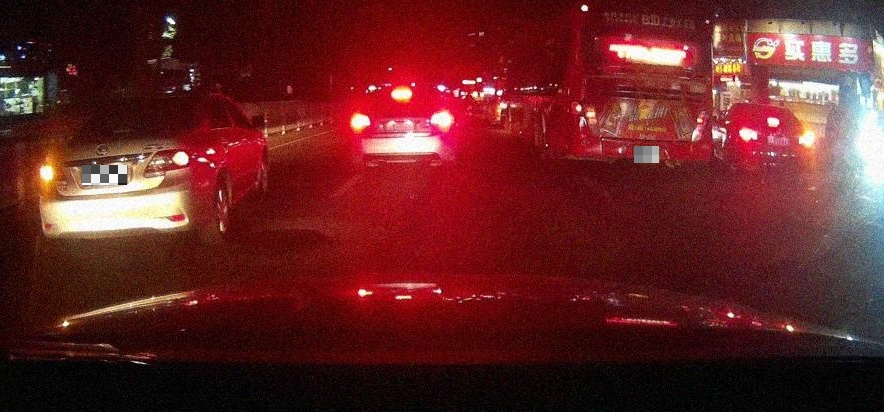L_light: (580, 101, 601, 138), (37, 159, 69, 183), (350, 112, 372, 132), (738, 126, 758, 142)
R_light: (140, 146, 193, 178), (689, 106, 708, 142), (429, 109, 451, 127), (799, 131, 811, 146)
T_light: (636, 59, 670, 67), (390, 89, 413, 98), (134, 100, 161, 106), (766, 117, 780, 126)
night-brake: (350, 83, 452, 169)
night-left: (36, 93, 209, 248)
night-no: (568, 0, 713, 169)
night-right: (731, 102, 813, 173)
plate_1: (82, 165, 127, 185)
plate_2: (634, 146, 659, 163)
